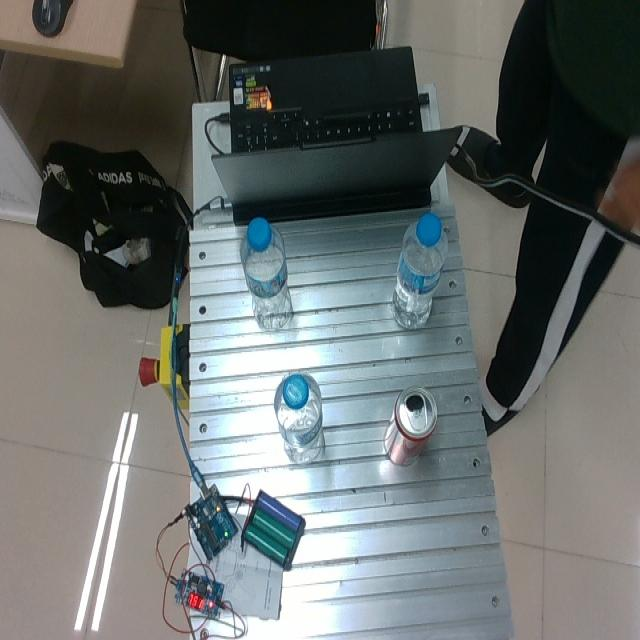coca: (384, 384, 438, 467)
lavie: (392, 213, 448, 329), (240, 216, 292, 331), (274, 370, 323, 462)
